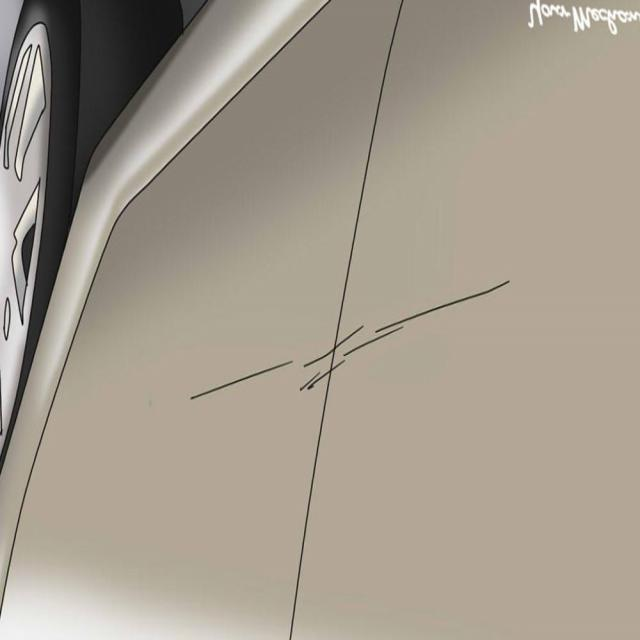scratch: (298, 272, 518, 412), (180, 354, 298, 408)
